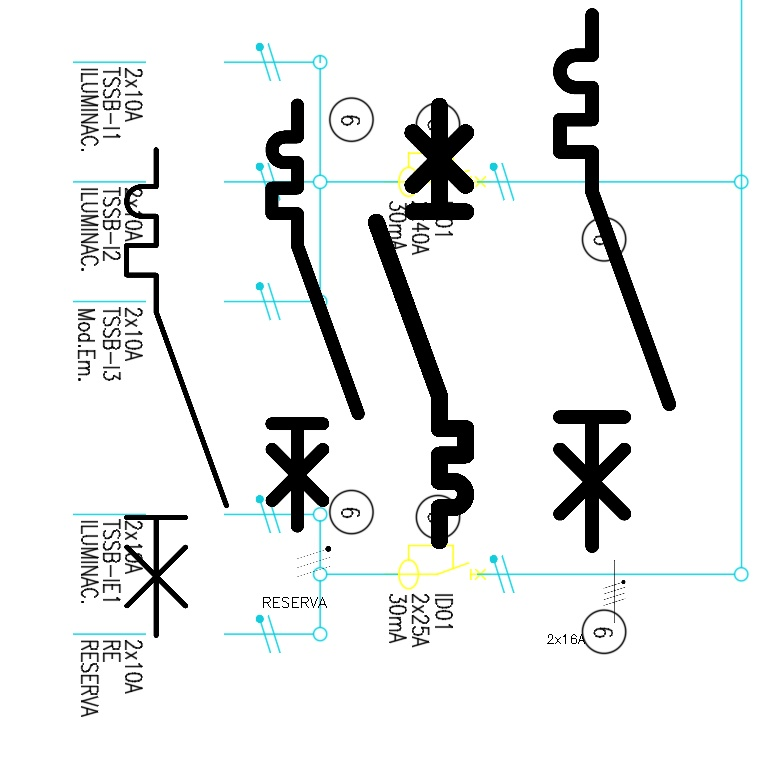interruptor_termomagnetico: (546, 1, 683, 560), (114, 137, 239, 648), (365, 95, 477, 552), (261, 94, 369, 537)
